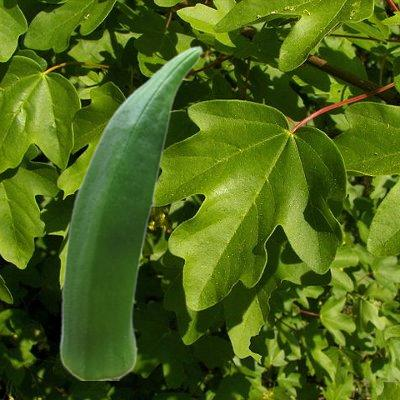okra: (58, 45, 202, 379)
